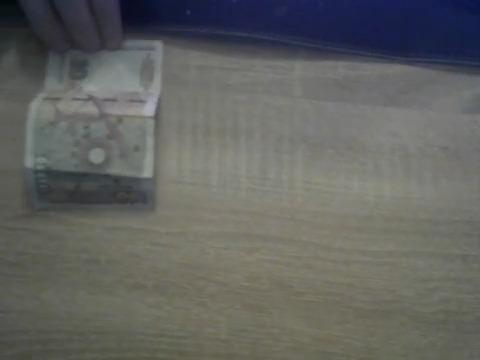10leva: (23, 40, 165, 212)
